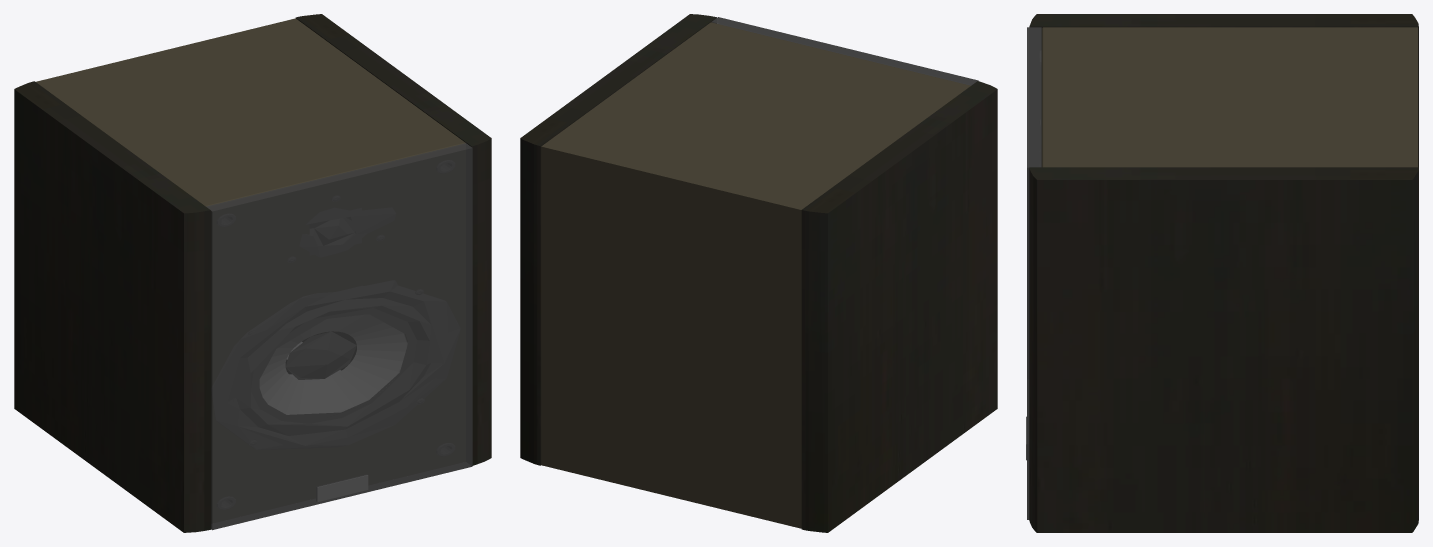
The model's file is sh-bs0-speaker2.glb.
3 views of the same model, side by side, from view 1: azimuth 30°, elevation 25°; view 2: azimuth 150°, elevation 25°; view 3: azimuth 270°, elevation 25° (orthographic). The views are drawn at different scales.
Visible parts, largest first — view 1: front_panel.001_Cube.003, sides.001_Cube.004, body.001_Cube.005, low_freq_speaker.001_Circle.005; view 2: body.001_Cube.005, sides.001_Cube.004, front_panel.001_Cube.003; view 3: sides.001_Cube.004, body.001_Cube.005, front_panel.001_Cube.003.
Boxes of the visible parts, x1,y1,x2,y2 form: front_panel.001_Cube.003: (206, 143, 472, 530); sides.001_Cube.004: (14, 14, 491, 532); body.001_Cube.005: (36, 18, 465, 522); low_freq_speaker.001_Circle.005: (212, 160, 458, 509); body.001_Cube.005: (541, 22, 970, 528); sides.001_Cube.004: (520, 14, 997, 532); front_panel.001_Cube.003: (711, 17, 978, 85); sides.001_Cube.004: (1029, 14, 1418, 532); body.001_Cube.005: (1041, 27, 1417, 167); front_panel.001_Cube.003: (1027, 27, 1041, 519).
Bounding box in the file's own units: 1 × 1 × 1.
Materials: 6 (1 with a texture image).
